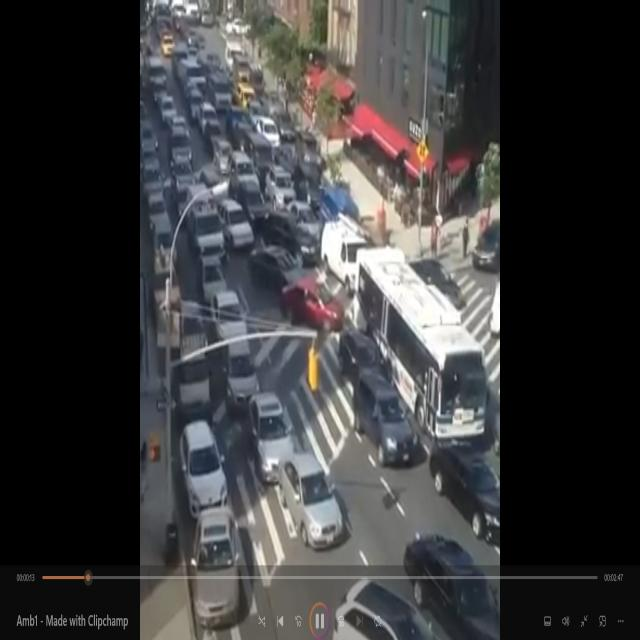Ambulance: (184, 177, 228, 263)
